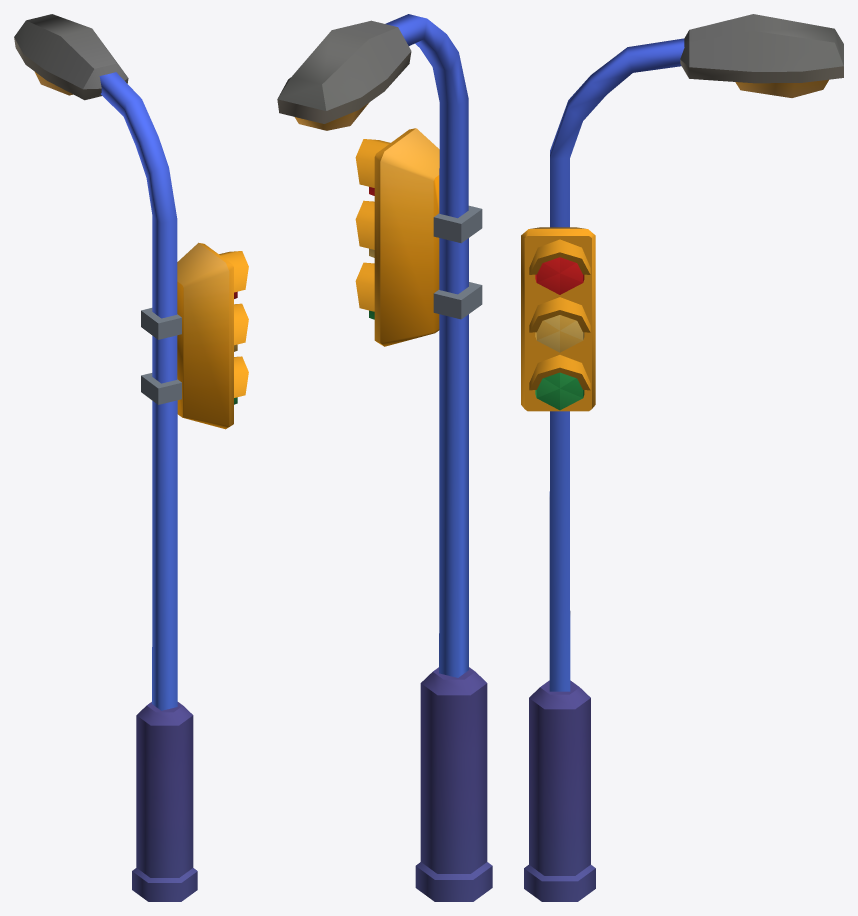
The model's file is Lights_7_B.fbx.
The picture shows the model from 3 angles, left to right: view 1: azimuth 30°, elevation 25°; view 2: azimuth 150°, elevation 25°; view 3: azimuth 270°, elevation 25°; orthographic projection. The views are drawn at different scales.
Visible parts, largest first — view 1: Lights_7_B; view 2: Lights_7_B; view 3: Lights_7_B.
Part boxes in pixels (box(x1,y1,x2,y2)): Lights_7_B: box(14, 14, 248, 901); Lights_7_B: box(277, 14, 492, 901); Lights_7_B: box(521, 14, 843, 901).
Bounding box in the file's own units: 60.9 × 423 × 143.
